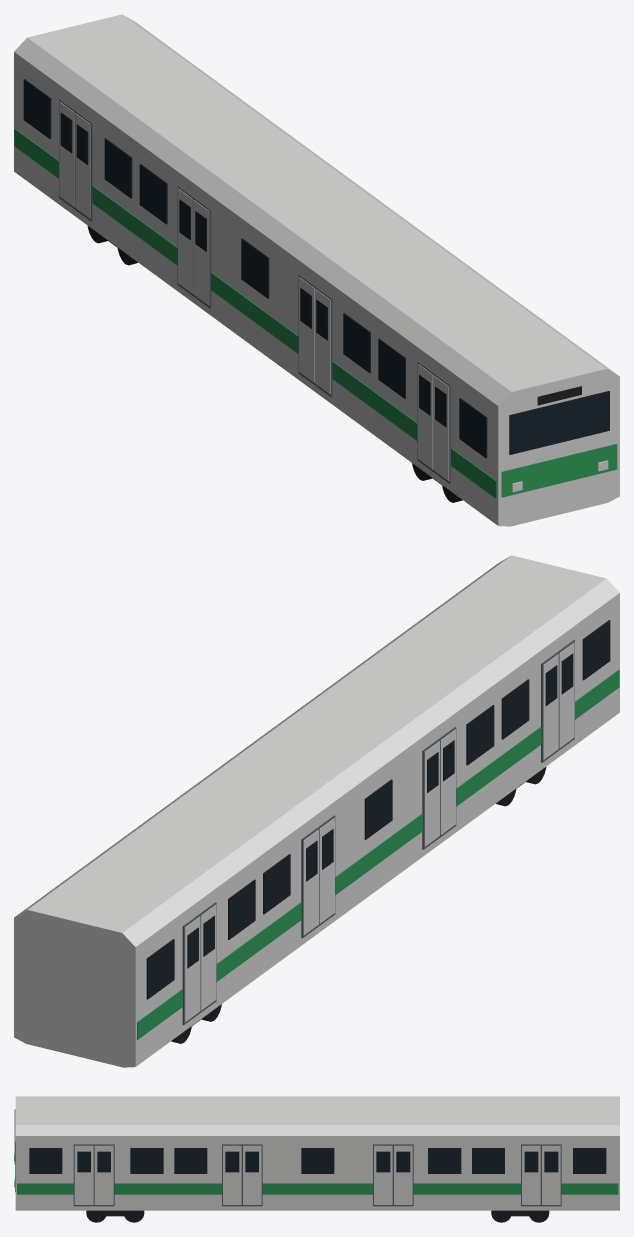
File: localtrain.glb
The picture shows the model from 3 angles, top to bottom: view 1: azimuth 30°, elevation 25°; view 2: azimuth 150°, elevation 25°; view 3: azimuth 270°, elevation 25°; orthographic projection. The views are drawn at different scales.
Parts seen in each view (by area): view 1: localtrain body; view 2: localtrain body; view 3: localtrain body.
Boxes of the visible parts, x1,y1,x2,y2 form: localtrain body: (14, 14, 619, 526); localtrain body: (14, 555, 619, 1067); localtrain body: (14, 1096, 619, 1222).
Bounding box in the file's own units: 3.03 × 3.6 × 20.05.
